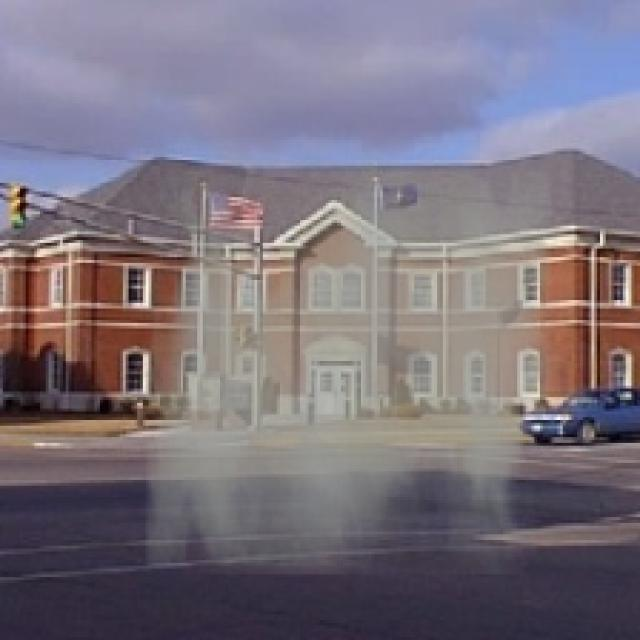Smoke: (146, 166, 552, 574)
